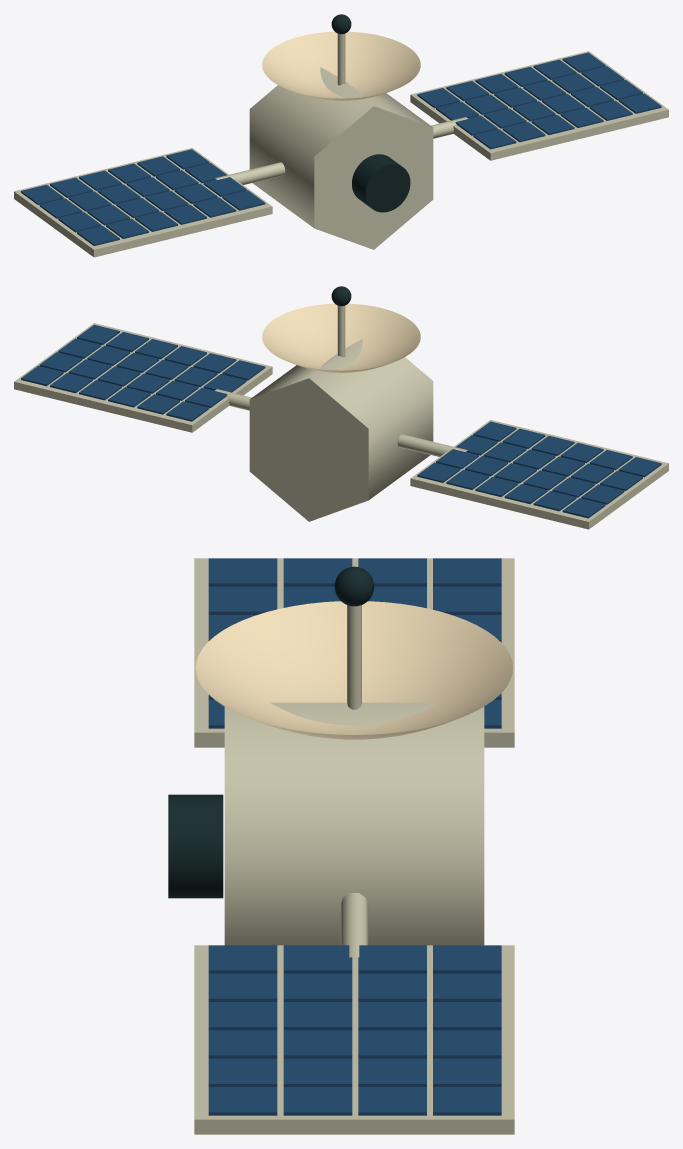
The model's file is survey-satellite.glb.
3 renders of one model, top to bottom at view 1: azimuth 30°, elevation 25°; view 2: azimuth 150°, elevation 25°; view 3: azimuth 270°, elevation 25°, orthographic. The views are drawn at different scales.
Parts seen in each view (by area): view 1: PhotovoltaicCell (×48), HexagonalInstrumentBus, SolarBacking (×2), ParabolicDish, SurveyOptics, PanelBoom, Receiver; view 2: PhotovoltaicCell (×48), HexagonalInstrumentBus, SolarBacking (×2), ParabolicDish, PanelBoom, Receiver; view 3: PhotovoltaicCell (×32), HexagonalInstrumentBus, ParabolicDish, SolarBacking (×2), SurveyOptics, PanelBoom, Receiver, ReceiverTip.
Boxes of the visible parts, x1,y1,x2,y2 form: PhotovoltaicCell (×48): (21, 52, 661, 245); HexagonalInstrumentBus: (249, 67, 433, 249); SolarBacking (×2): (14, 51, 668, 257); ParabolicDish: (262, 31, 420, 100); SurveyOptics: (352, 154, 410, 212); PanelBoom: (215, 162, 285, 184); Receiver: (337, 33, 345, 85); PhotovoltaicCell (×48): (21, 324, 661, 518); HexagonalInstrumentBus: (249, 339, 433, 521); SolarBacking (×2): (14, 323, 668, 529); ParabolicDish: (262, 303, 420, 372); PanelBoom: (397, 434, 467, 456); Receiver: (337, 305, 345, 357); PhotovoltaicCell (×32): (208, 558, 501, 1115); HexagonalInstrumentBus: (224, 702, 484, 945); ParabolicDish: (195, 601, 512, 739); SolarBacking (×2): (194, 558, 514, 1134); SurveyOptics: (168, 794, 223, 898); PanelBoom: (340, 893, 368, 957); Receiver: (347, 605, 361, 709); ReceiverTip: (334, 566, 374, 606).
Bounding box in the file's own units: 4.35 × 1.52 × 1.13.
